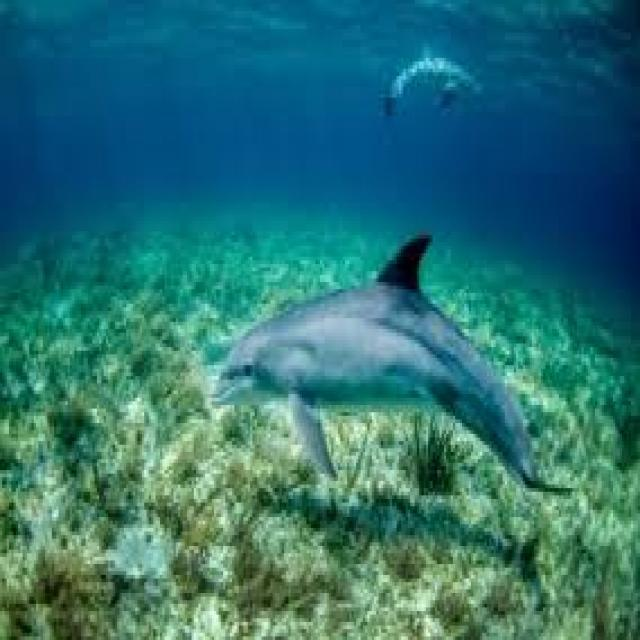dolphin: (205, 213, 584, 564)
